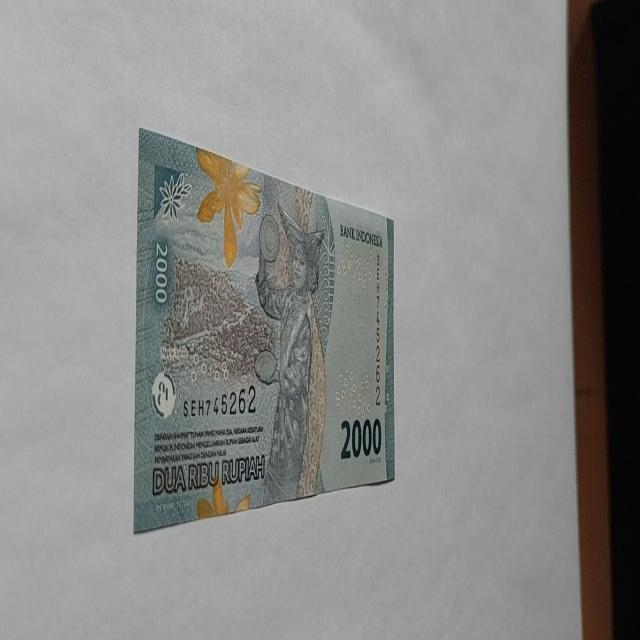dua ribu rupiah: (133, 130, 394, 532), (253, 201, 327, 506), (194, 146, 262, 268)
